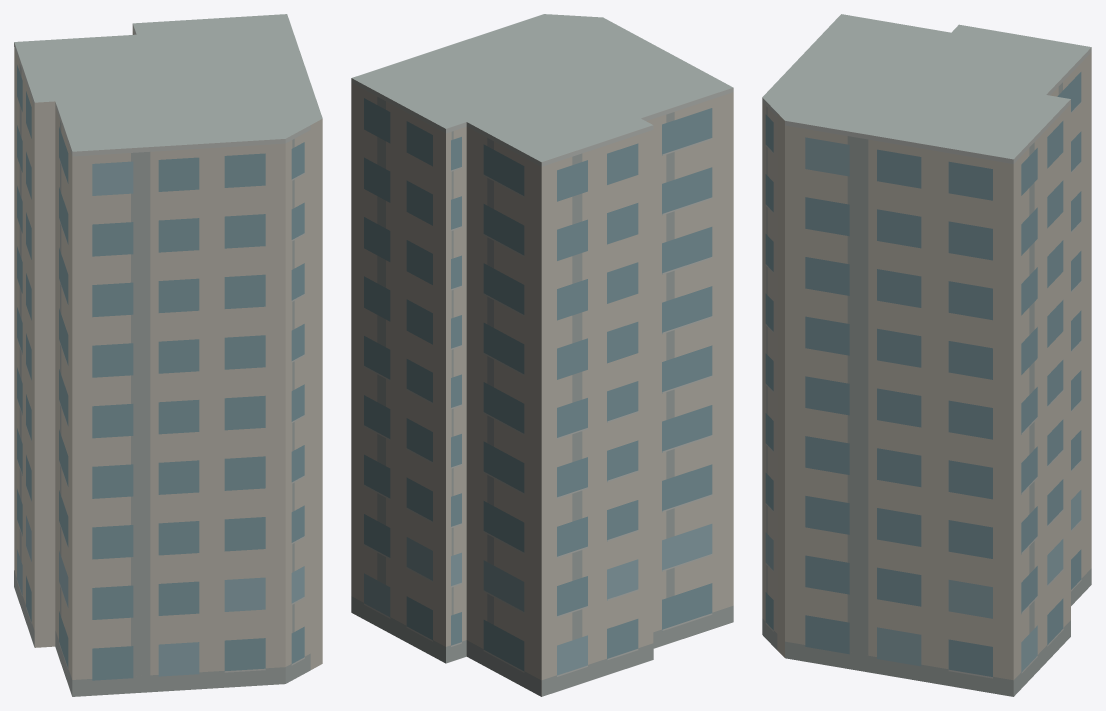
The model's file is residential-10fe5ab2-6ebe-4049-a656-6d473cefa703.glb.
3 renders of one model, left to right at view 1: azimuth 30°, elevation 25°; view 2: azimuth 150°, elevation 25°; view 3: azimuth 270°, elevation 25°, orthographic.
Visible parts, largest first — view 1: residential-10fe5ab2-6ebe-4049-a656-6d473cefa703.tmp; view 2: residential-10fe5ab2-6ebe-4049-a656-6d473cefa703.tmp; view 3: residential-10fe5ab2-6ebe-4049-a656-6d473cefa703.tmp.
Part boxes in pixels (x1,y1,x2,y2): residential-10fe5ab2-6ebe-4049-a656-6d473cefa703.tmp: (14,14,322,696); residential-10fe5ab2-6ebe-4049-a656-6d473cefa703.tmp: (351,14,733,696); residential-10fe5ab2-6ebe-4049-a656-6d473cefa703.tmp: (762,14,1091,696).
Bounding box in the file's own units: 16.25 × 28 × 15.56.
